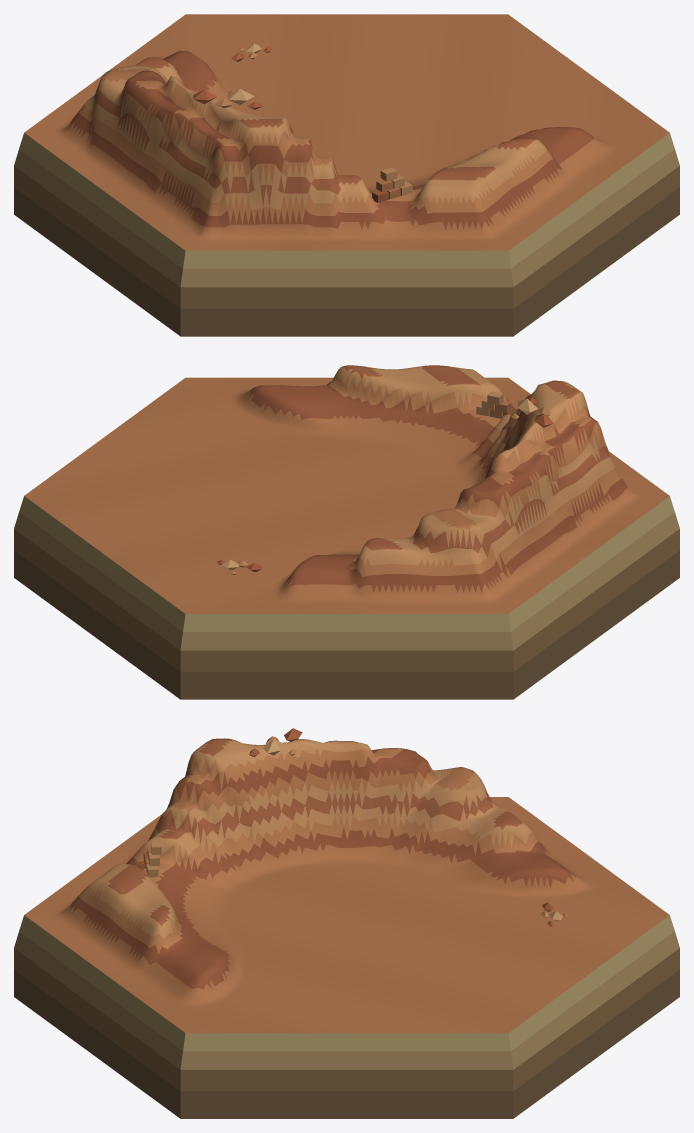
File: catan_terrain_clay_03.glb
3 renders of one model, top to bottom at view 1: azimuth 30°, elevation 25°; view 2: azimuth 150°, elevation 25°; view 3: azimuth 270°, elevation 25°, orthographic.
Visible parts, largest first — view 1: catan_terrain_clay_03_ground, catan_terrain_clay_03_decoration; view 2: catan_terrain_clay_03_ground, catan_terrain_clay_03_decoration; view 3: catan_terrain_clay_03_ground, catan_terrain_clay_03_decoration.
Boxes of the visible parts, x1,y1,x2,y2 form: catan_terrain_clay_03_ground: [14, 14, 679, 336]; catan_terrain_clay_03_decoration: [193, 43, 412, 202]; catan_terrain_clay_03_ground: [14, 365, 679, 699]; catan_terrain_clay_03_decoration: [217, 391, 553, 574]; catan_terrain_clay_03_ground: [14, 738, 679, 1118]; catan_terrain_clay_03_decoration: [143, 728, 568, 926].
Size of the model in its own units: 1.71 by 0.6124 by 1.97.
